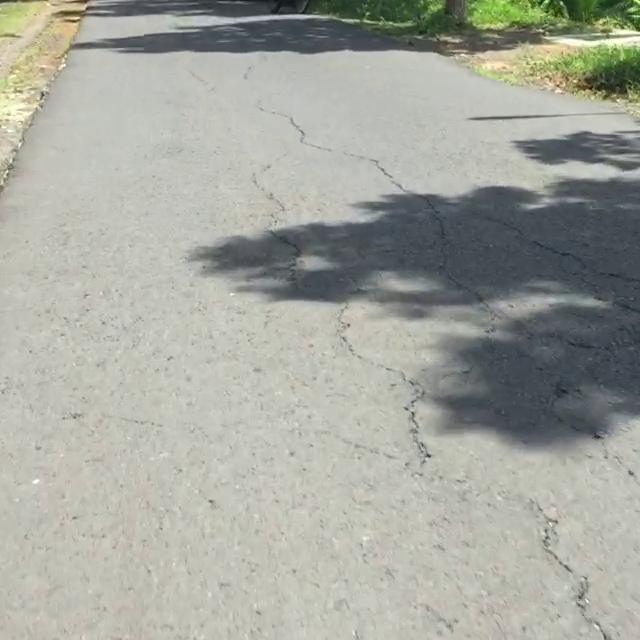retak_memanjang: (206, 124, 454, 493), (277, 73, 444, 216), (512, 502, 640, 640), (551, 238, 640, 394)
